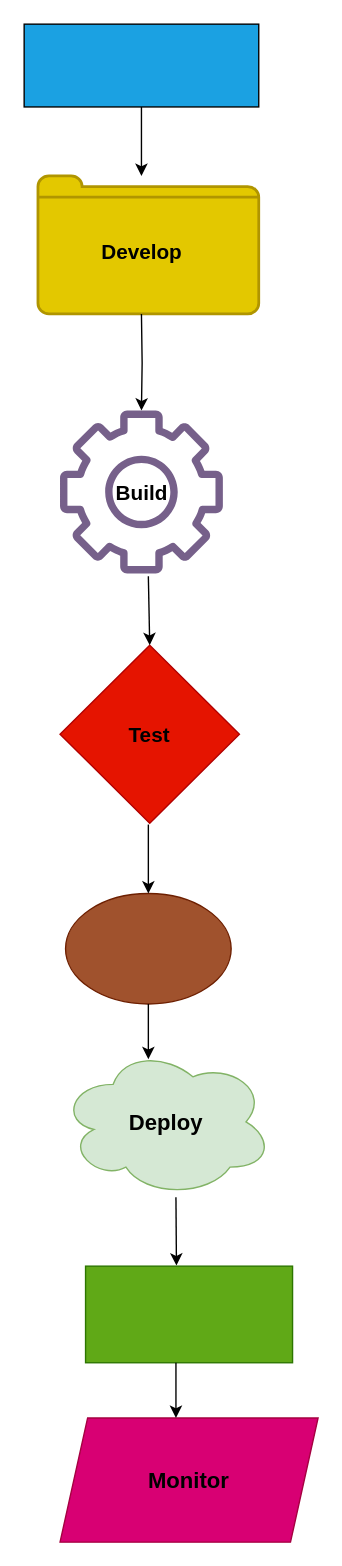
Some shapes in this 342 by 1566 pixel diagram are drawn without their labels. The centre of each missing label's shape, as x and y in pixels:
Operate: the point at 188,1314
Plan: the point at 141,65
Release: the point at 147,948
